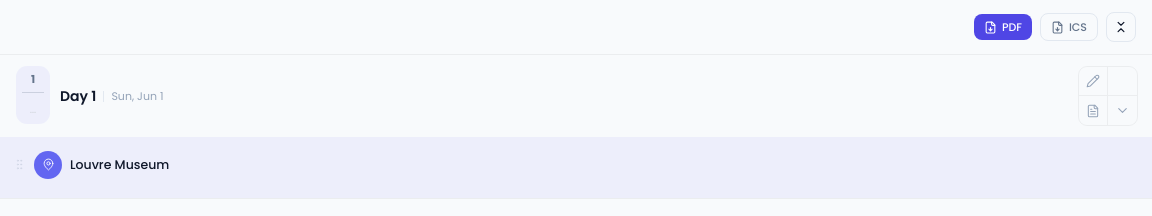
Test: DayPlanSidebar › FE-PLANNER-DAYPLAN-019: right-click on assignment opens context menu
Right-click the text "Louvre Museum" at x=120, y=164, box [70,157,169,172]
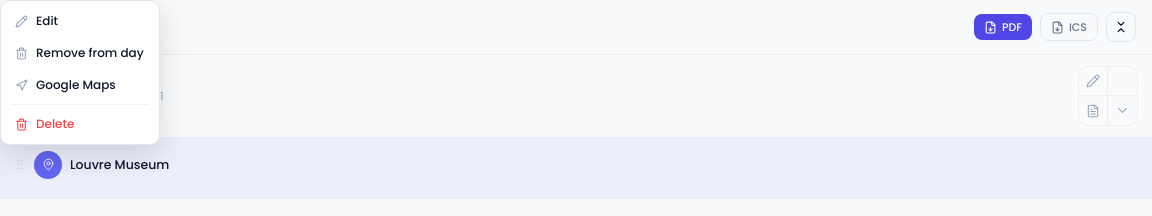
Check: the text "Edit" is shown, box [36,12,58,30]
Check: the text "Remove from day" is shown, box [36,44,144,62]
